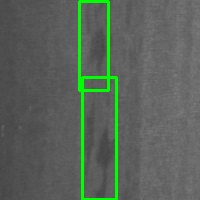inclusion: (82, 77, 116, 199), (79, 1, 108, 90)
